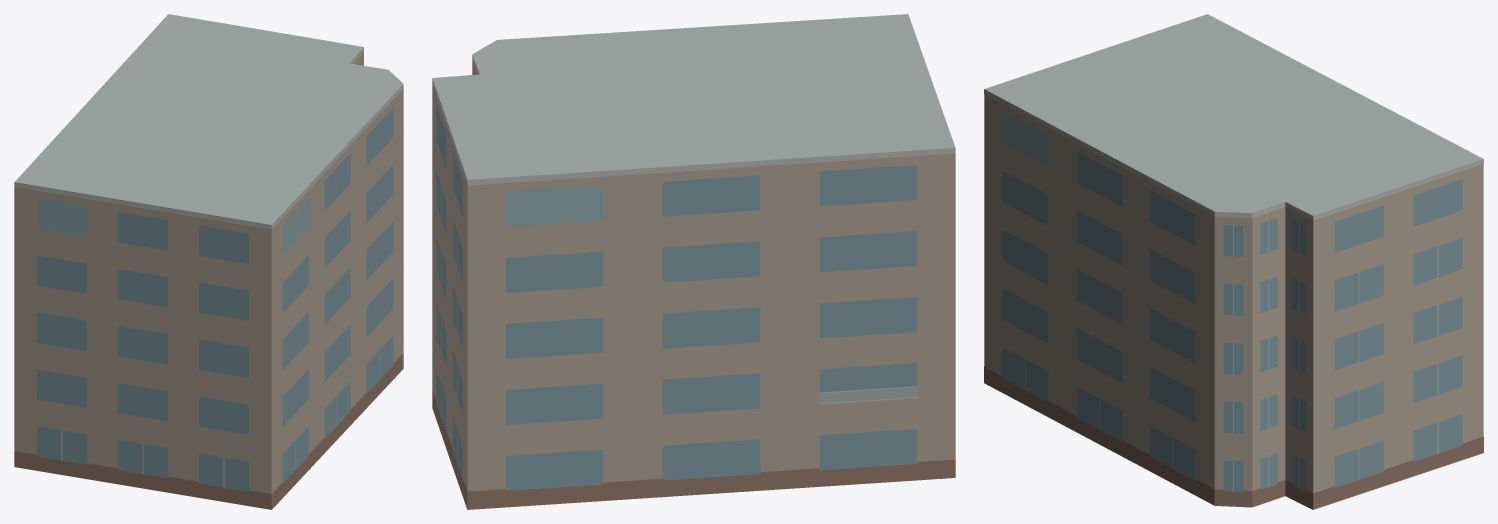
File: survey-upis-32729165.glb
3 views of the same model, side by side, from view 1: azimuth 30°, elevation 25°; view 2: azimuth 150°, elevation 25°; view 3: azimuth 270°, elevation 25° (orthographic). The views are drawn at different scales.
Parts seen in each view (by area): view 1: survey-upis-32729165.tmp; view 2: survey-upis-32729165.tmp; view 3: survey-upis-32729165.tmp.
Part boxes in pixels (x1=…): survey-upis-32729165.tmp: x1=14, y1=14, x2=403, y2=509; survey-upis-32729165.tmp: x1=432, y1=14, x2=955, y2=509; survey-upis-32729165.tmp: x1=984, y1=14, x2=1483, y2=509.
Size of the model in its own units: 21.2 by 14.4 by 22.18.
